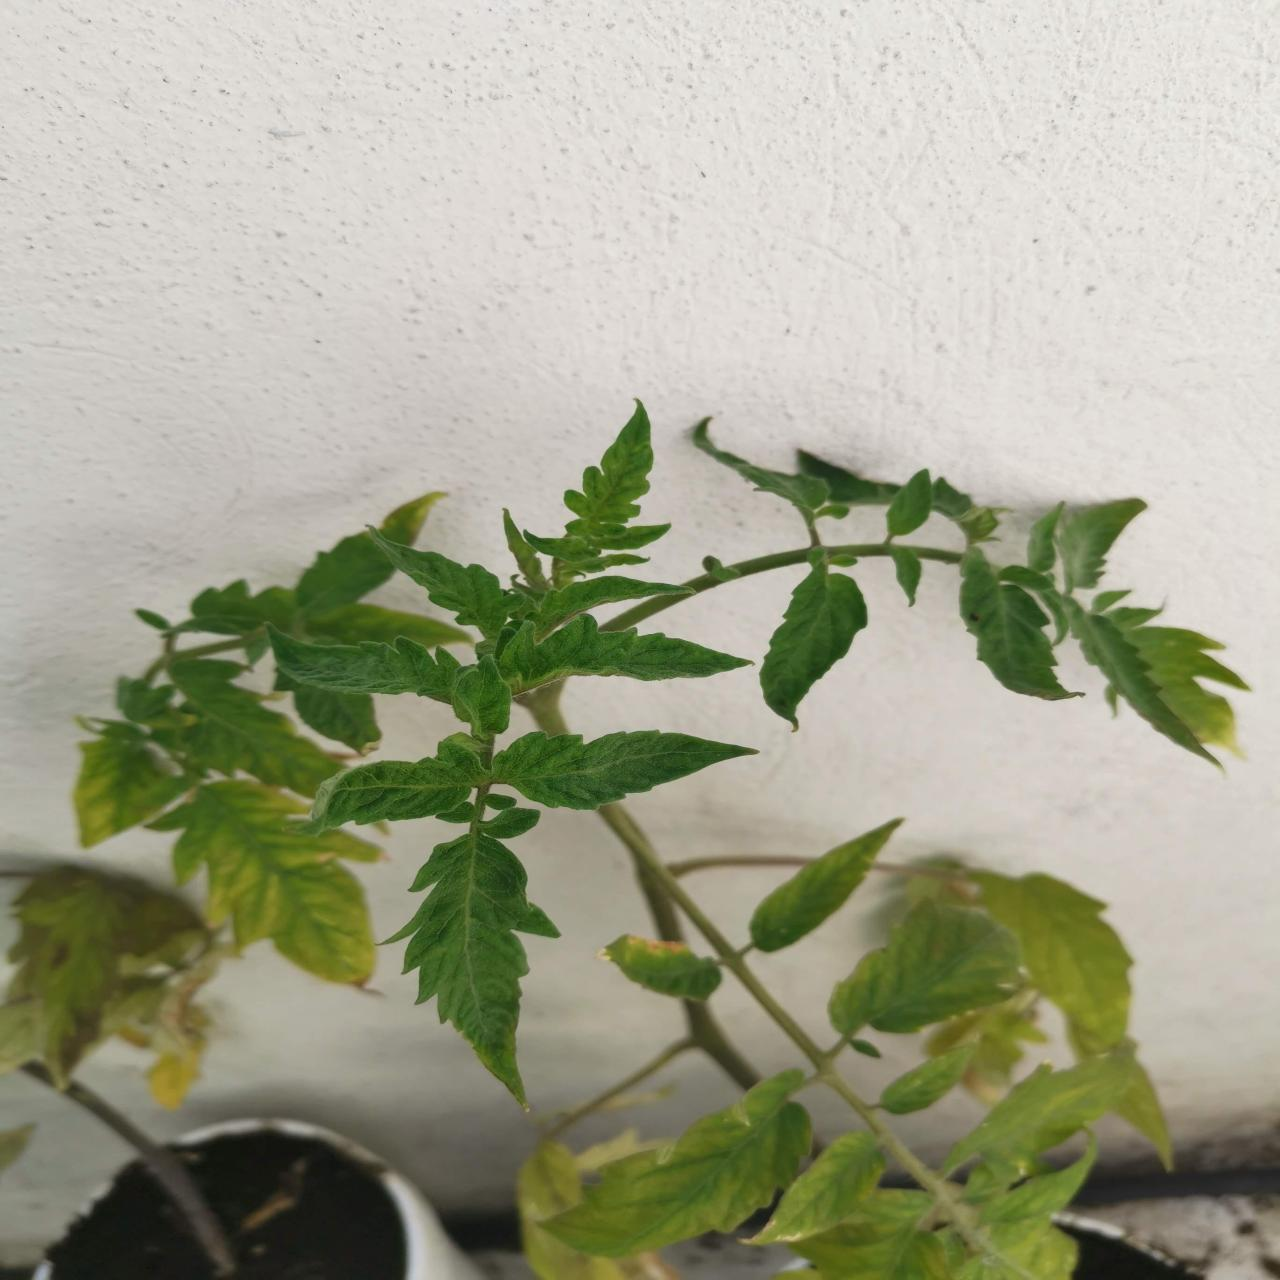T_L_H: (761, 549, 869, 729)
T_L_R: (372, 835, 564, 1114), (368, 527, 525, 667), (496, 614, 757, 697), (492, 730, 760, 811), (282, 742, 489, 838), (264, 624, 462, 704), (564, 401, 654, 544), (526, 576, 699, 632), (452, 655, 512, 742)
